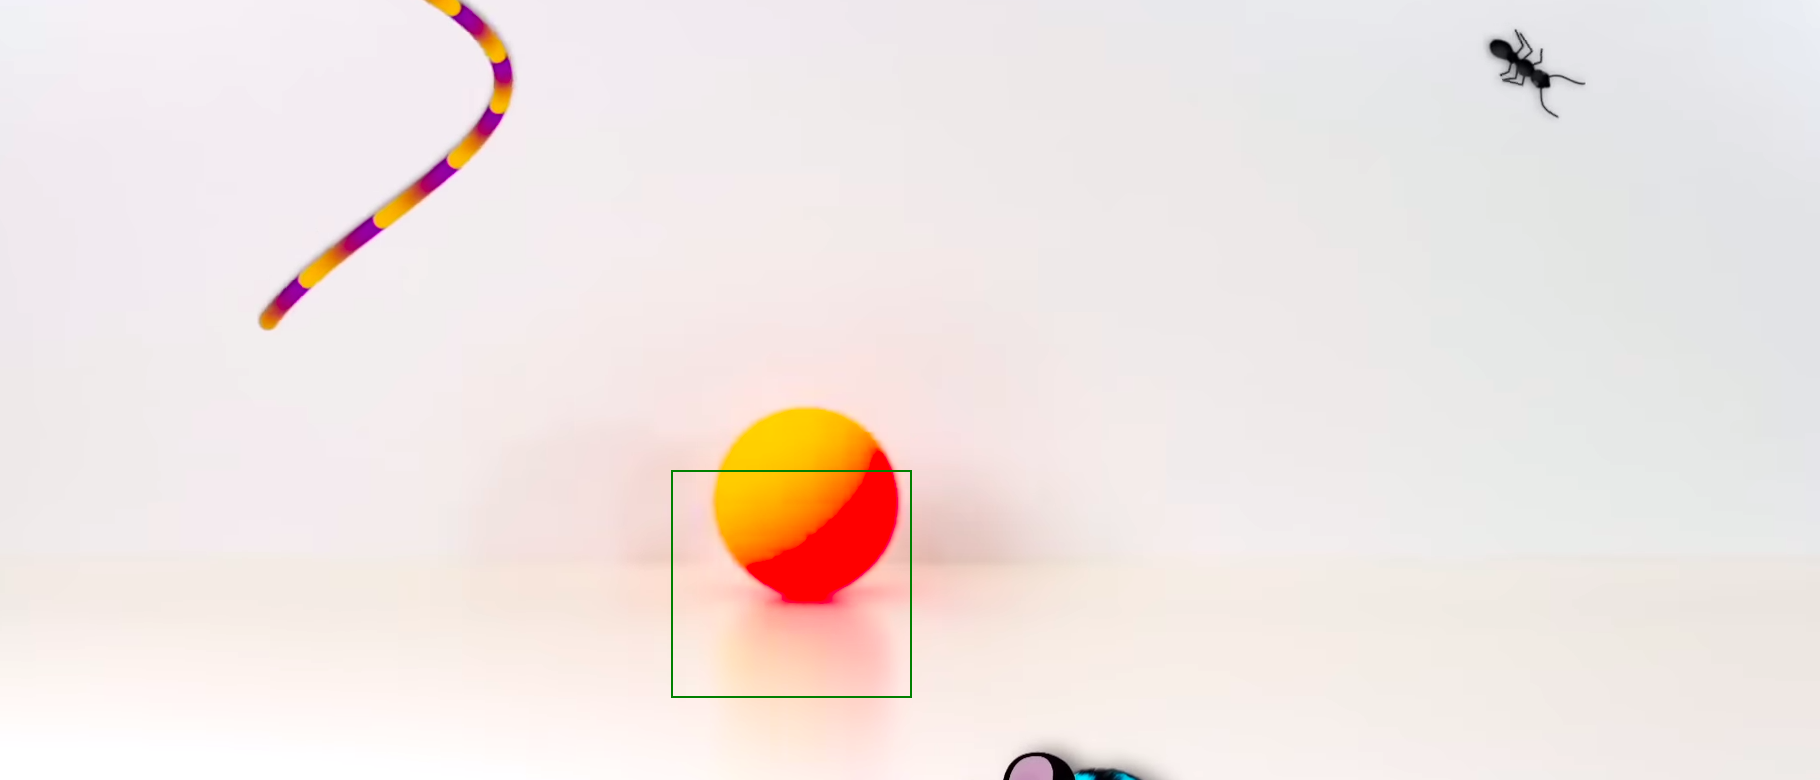Circle: (710, 407, 903, 604)
